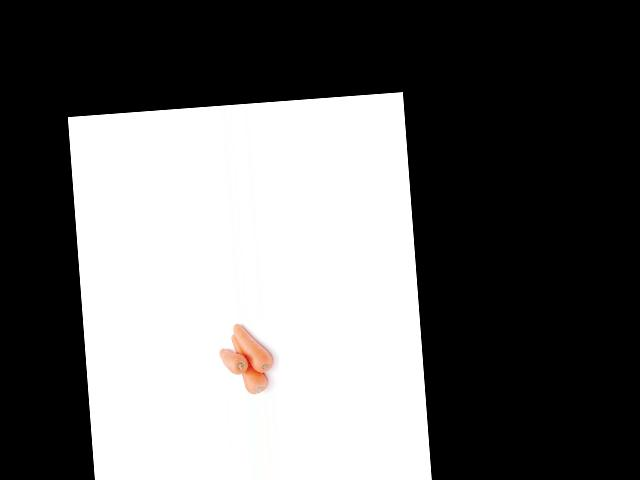carrot: (231, 330, 270, 394)
